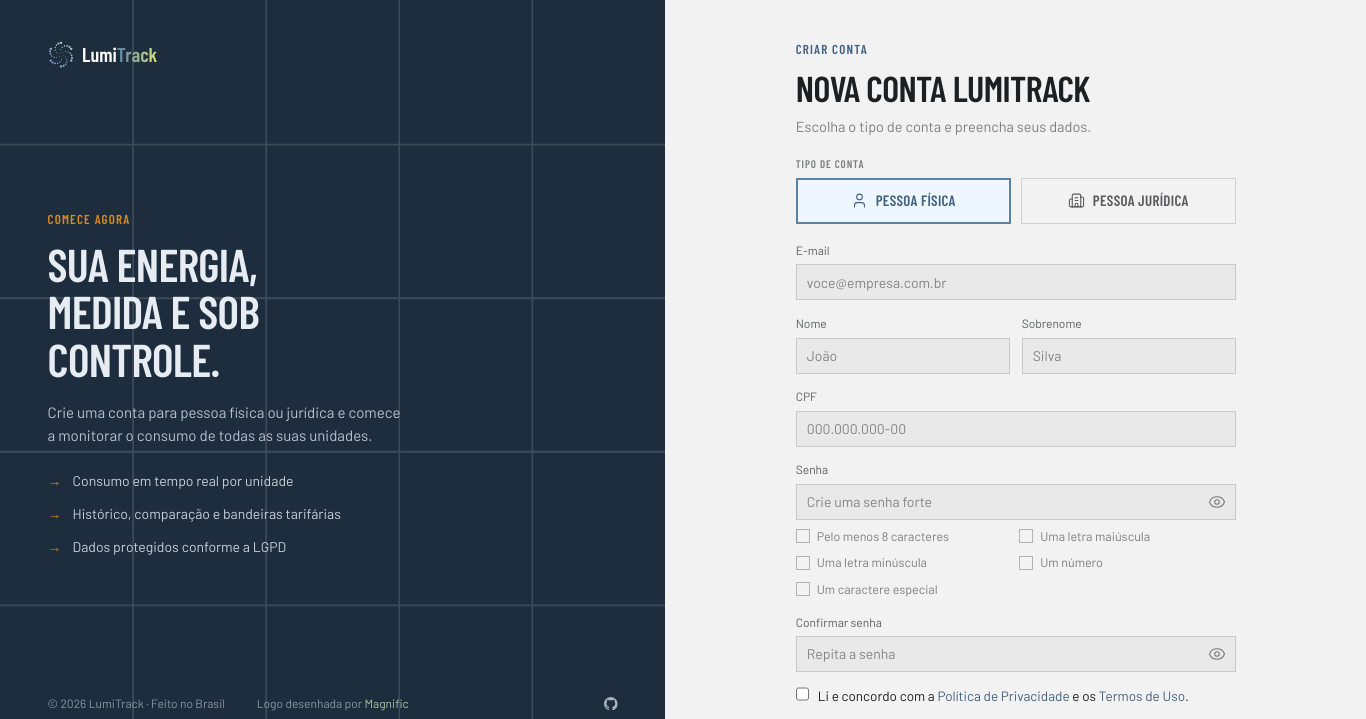
Test: RegisterPage — validação client-side › mostra erro para email malformado
This screenshot has width=1366, height=719.
Type "nao-eh-email" into the field labelled "E-mail" at point(1016, 282), box [796,264,1236,300]
(page scrolled)
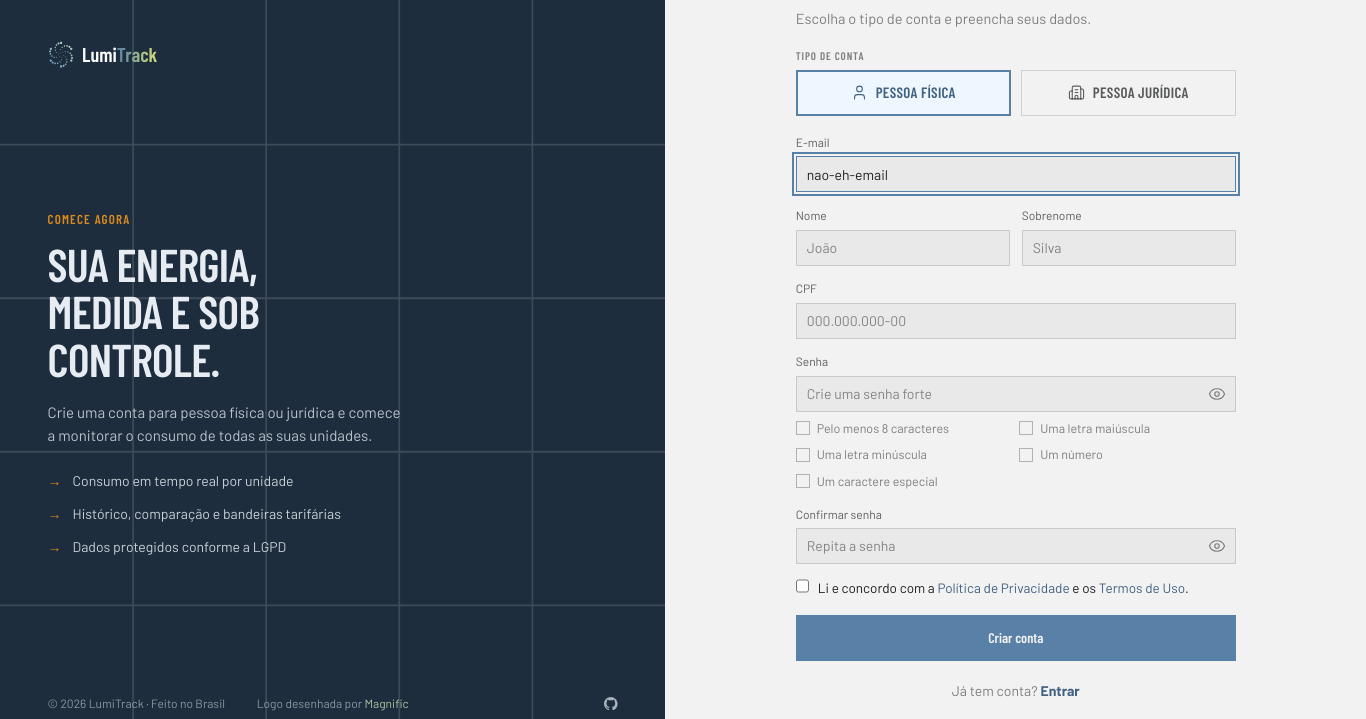
Click the button "Criar conta" at point(1016, 638), box [796,615,1236,661]
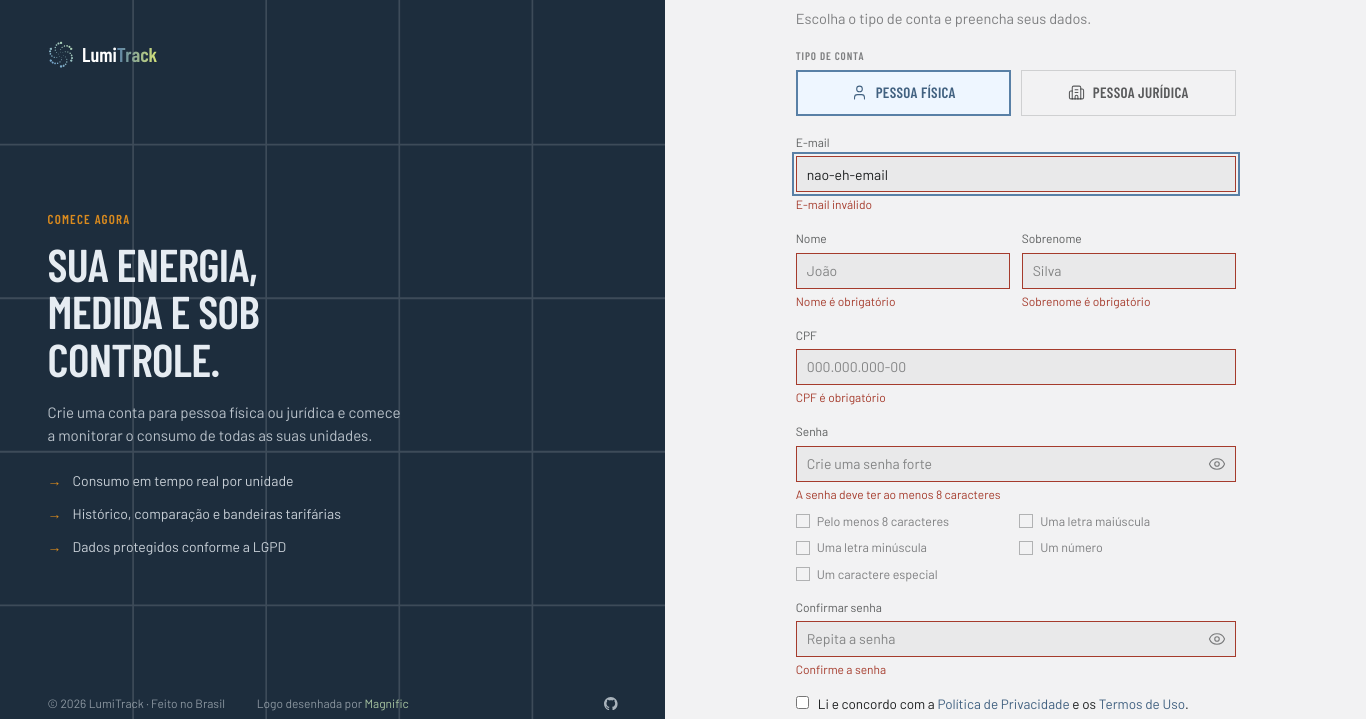
Check: the text "E-mail inválido" is shown, box [796,197,872,211]
